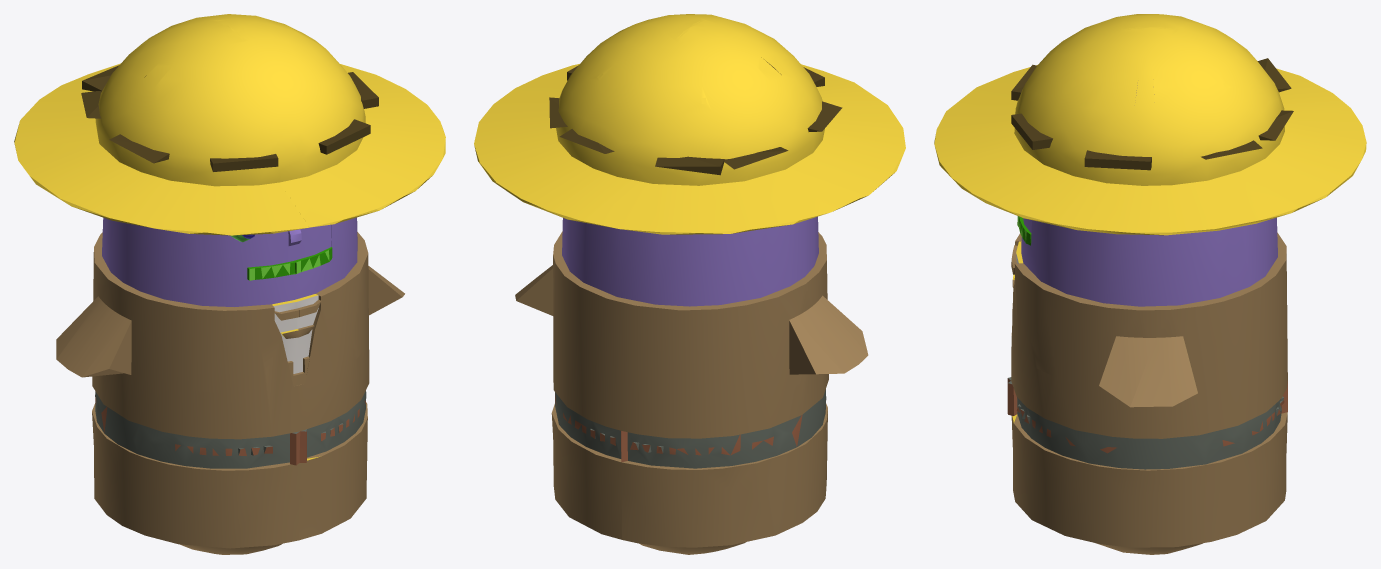
File: WatcherLowPoly.fbx
3 renders of one model, left to right at view 1: azimuth 30°, elevation 25°; view 2: azimuth 150°, elevation 25°; view 3: azimuth 270°, elevation 25°, orthographic.
Visible parts, largest first — view 1: Sphere, Cube.002; view 2: Sphere, Cube.002; view 3: Sphere, Cube.002.
Part boxes in pixels (x1,y1,x2,y2): Sphere: (14, 14, 445, 554); Cube.002: (81, 65, 378, 171); Sphere: (474, 14, 905, 554); Cube.002: (549, 62, 842, 175); Sphere: (934, 14, 1366, 554); Cube.002: (1011, 58, 1293, 170).
Bounding box in the file's own units: 303 × 399 × 303.
